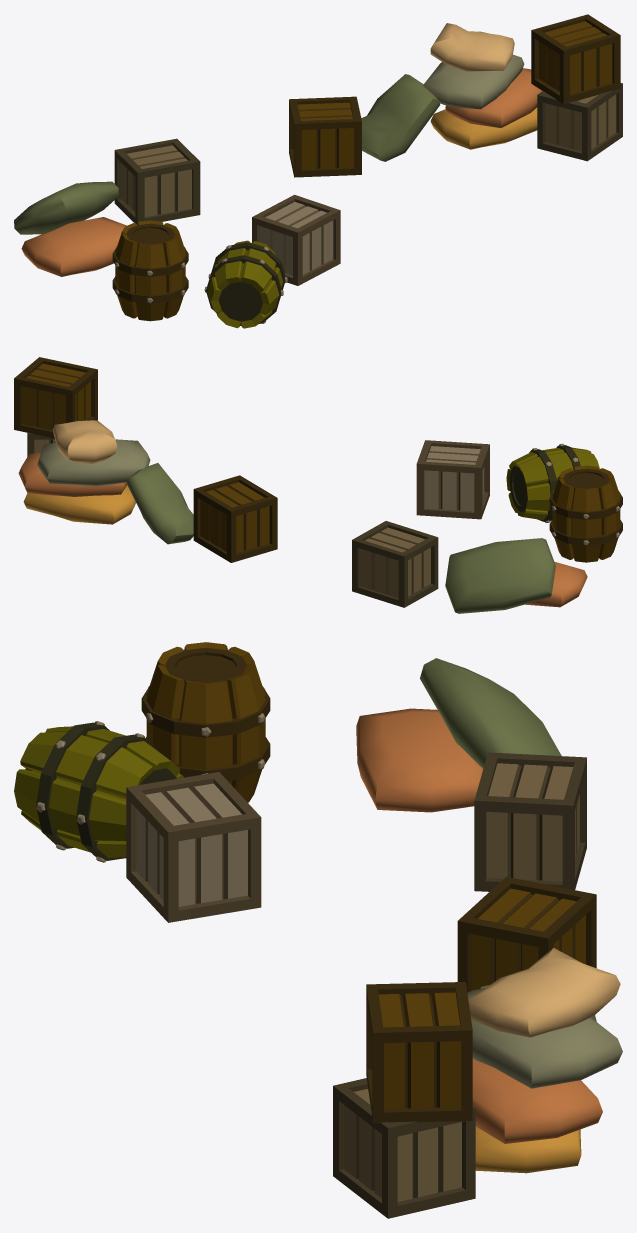
Rendered from basement1.fbx.
3 views of the same model, one above another, from view 1: azimuth 30°, elevation 25°; view 2: azimuth 150°, elevation 25°; view 3: azimuth 270°, elevation 25° (orthographic). The views are drawn at different scales.
Parts seen in each view (by area): view 1: basement1; view 2: basement1; view 3: basement1.
Boxes of the visible parts, <box> form: basement1: <box>14,14,622,328</box>; basement1: <box>14,357,622,613</box>; basement1: <box>14,642,622,1218</box>.
Bounding box in the file's own units: 886 × 166 × 476.
